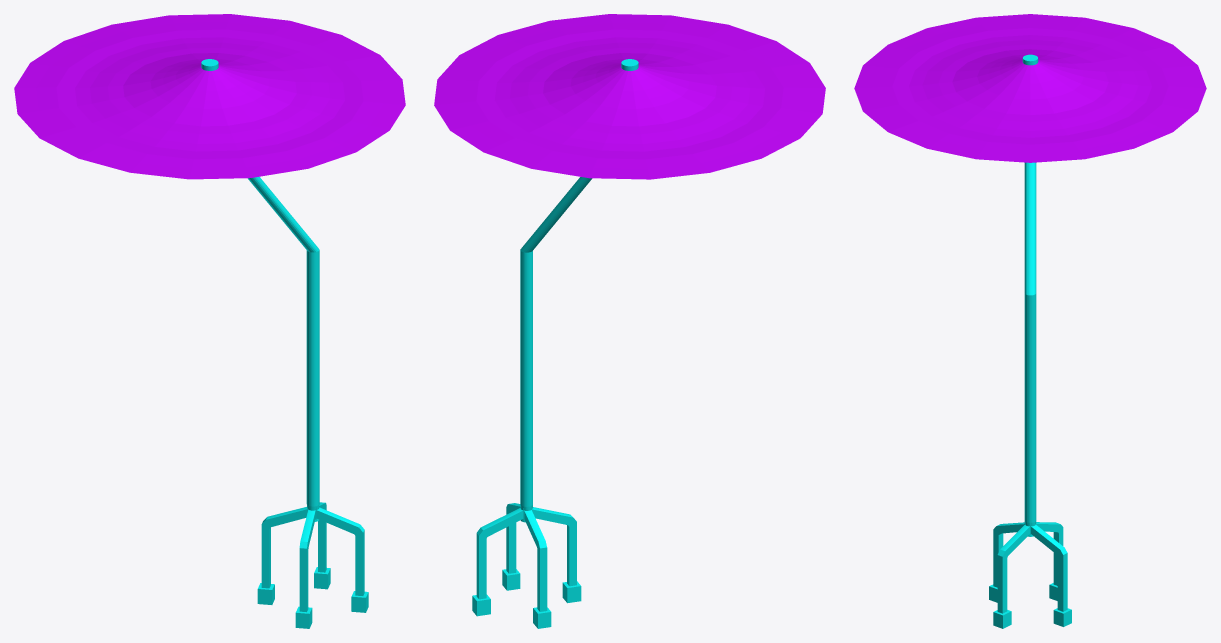
The model's file is PLATILLO_2.fbx.
3 views of the same model, side by side, from view 1: azimuth 30°, elevation 25°; view 2: azimuth 150°, elevation 25°; view 3: azimuth 270°, elevation 25° (orthographic). The views are drawn at different scales.
Parts seen in each view (by area): view 1: pCylinder31; view 2: pCylinder31; view 3: pCylinder31.
Part boxes in pixels (x1,y1,x2,y2): pCylinder31: [14, 14, 405, 628]; pCylinder31: [434, 14, 825, 628]; pCylinder31: [854, 14, 1206, 628].
Bounding box in the file's own units: 6.9 × 10.99 × 6.9.
2 materials, 2 textured.
